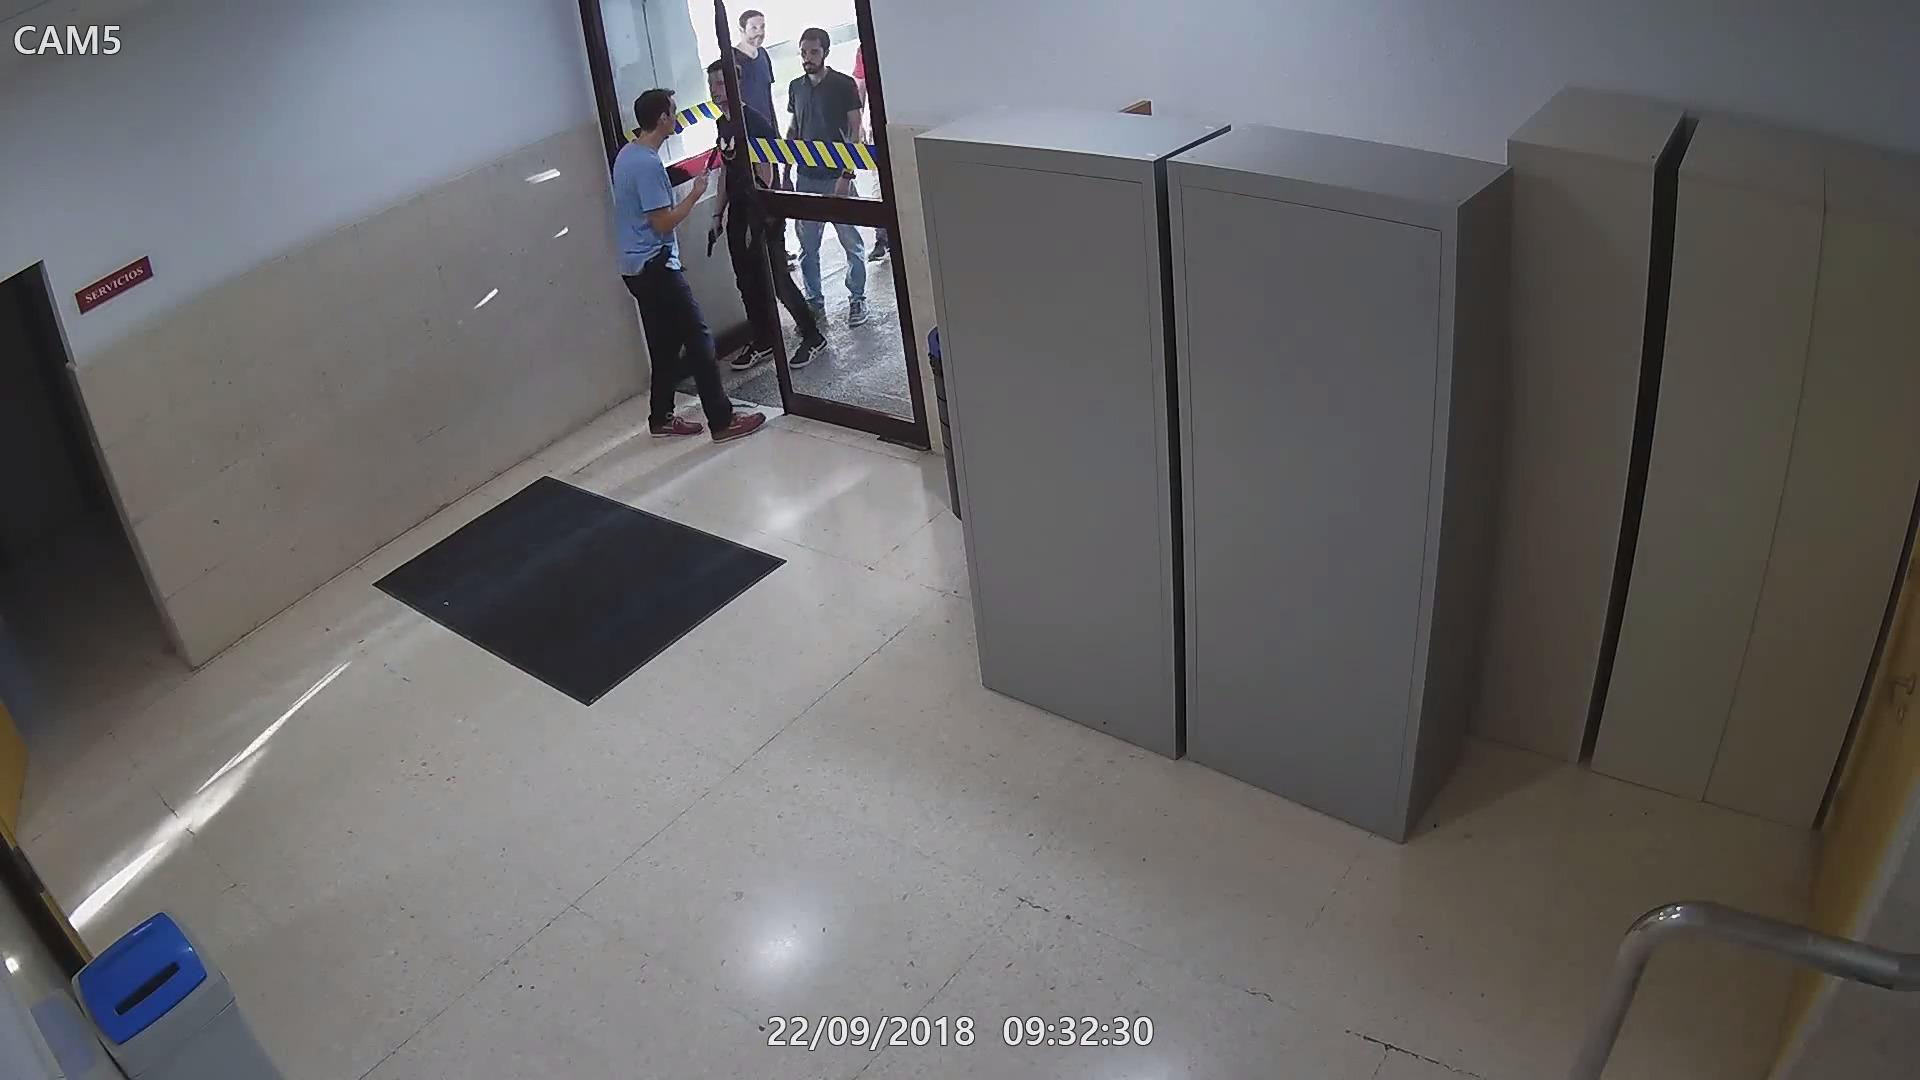Handgun: (700, 225, 727, 260)
